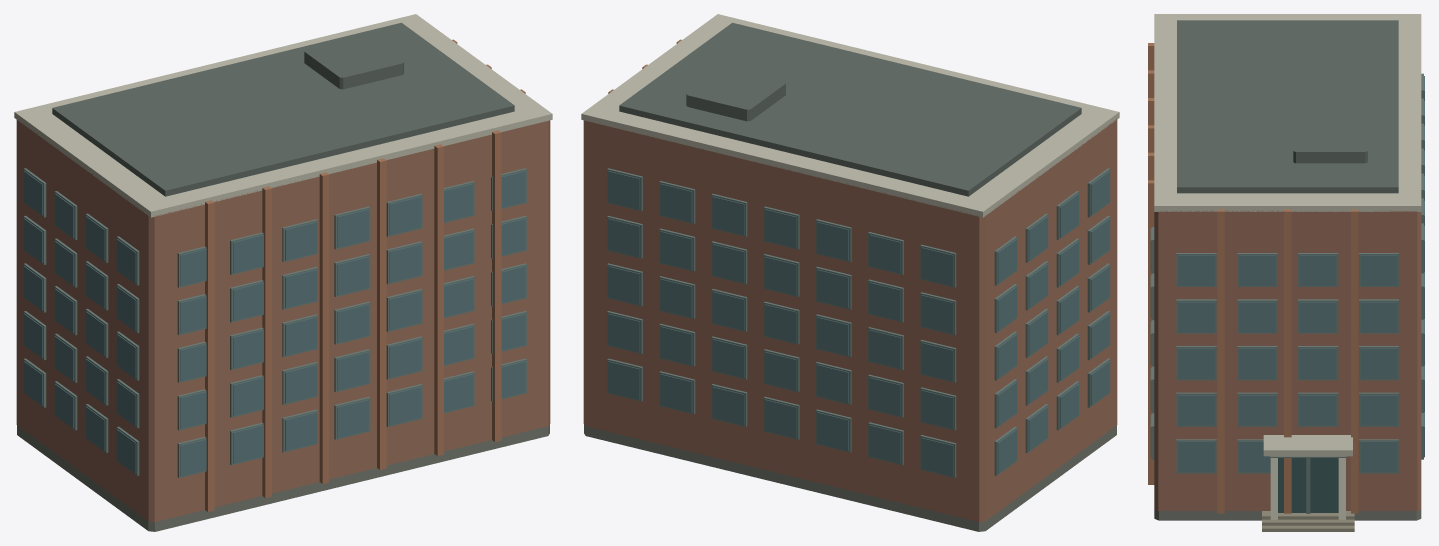
3 renders of one model, left to right at view 1: azimuth 30°, elevation 25°; view 2: azimuth 150°, elevation 25°; view 3: azimuth 270°, elevation 25°, orthographic. The views are drawn at different scales.
Parts seen in each view (by area): view 1: form, glaze, relief, glowing; view 2: form, glaze, relief, glowing; view 3: form, glaze, relief, glowing.
Part boxes in pixels (x1,y1,x2,y2): form: (14, 14, 552, 531); glaze: (24, 171, 525, 476); relief: (23, 168, 526, 477); glowing: (86, 231, 473, 412); form: (581, 14, 1119, 531); glaze: (608, 171, 1109, 476); relief: (607, 168, 1110, 477); glowing: (712, 282, 1078, 463); form: (1148, 14, 1421, 531); glaze: (1150, 76, 1424, 512); relief: (1151, 73, 1423, 519); glowing: (1300, 348, 1336, 379).
Bounding box in the file's own units: 18.54 × 13.71 × 10.35.
